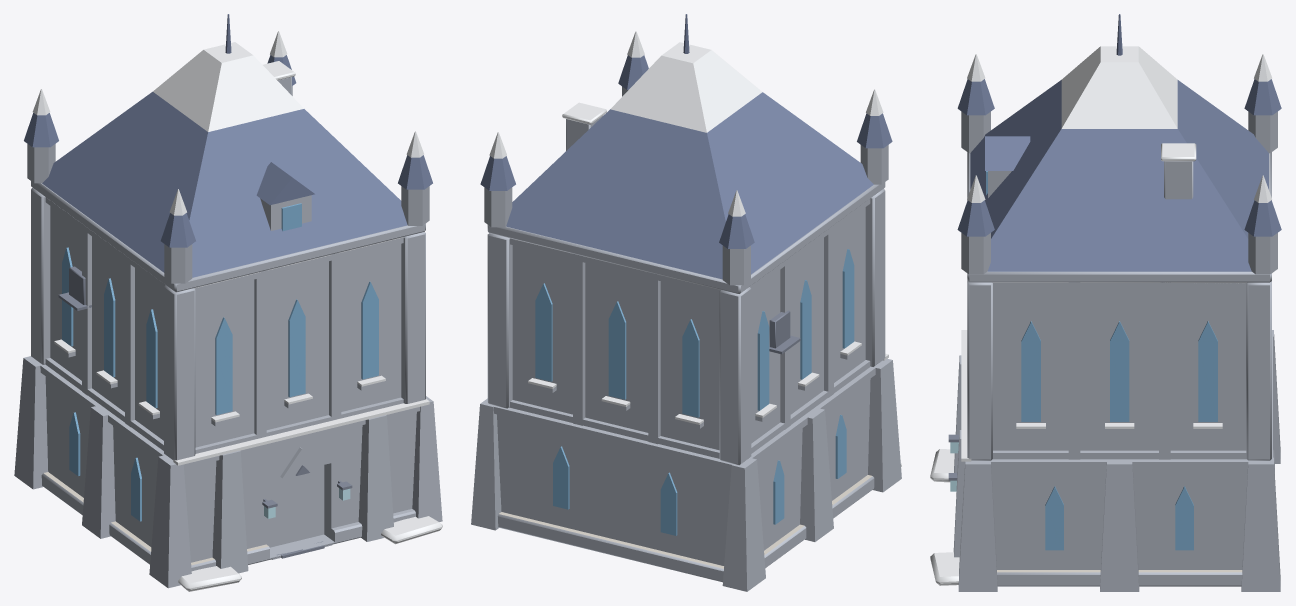
The model's file is NivalisBloque.fbx.
3 renders of one model, left to right at view 1: azimuth 30°, elevation 25°; view 2: azimuth 150°, elevation 25°; view 3: azimuth 270°, elevation 25°, orthographic. The views are drawn at different scales.
Visible parts, largest first — view 1: NivalisBloque_Medio_Cuerpo, NivalisBloque_Base_Cuerpo, NivalisBloque_Tope_Techo, NivalisBloque_Tope_Nieve, NivalisBloque_Tope_Cuerpo, NivalisBloque_Medio_Cristal, NivalisBloque_Base_Nieve, NivalisBloque_Base_Cristal, NivalisBloque_Medio_Nieve, NivalisBloque_Medio_Metal, NivalisBloque_Base_Forro; view 2: NivalisBloque_Medio_Cuerpo, NivalisBloque_Base_Cuerpo, NivalisBloque_Tope_Techo, NivalisBloque_Tope_Nieve, NivalisBloque_Medio_Cristal, NivalisBloque_Tope_Cuerpo, NivalisBloque_Base_Cristal, NivalisBloque_Base_Forro, NivalisBloque_Medio_Nieve, NivalisBloque_Medio_Metal; view 3: NivalisBloque_Medio_Cuerpo, NivalisBloque_Tope_Techo, NivalisBloque_Base_Cuerpo, NivalisBloque_Tope_Nieve, NivalisBloque_Tope_Cuerpo, NivalisBloque_Medio_Cristal, NivalisBloque_Base_Nieve, NivalisBloque_Base_Cristal, NivalisBloque_Medio_Nieve, NivalisBloque_Base_Forro.
Boxes of the visible parts, left/top/right/bottom form: NivalisBloque_Medio_Cuerpo: left=31, top=187, right=425, bottom=460; NivalisBloque_Base_Cuerpo: left=14, top=356, right=442, bottom=588; NivalisBloque_Tope_Techo: left=24, top=14, right=432, bottom=277; NivalisBloque_Tope_Nieve: left=32, top=31, right=424, bottom=215; NivalisBloque_Tope_Cuerpo: left=27, top=77, right=429, bottom=292; NivalisBloque_Medio_Cristal: left=62, top=247, right=378, bottom=414; NivalisBloque_Base_Nieve: left=173, top=399, right=442, bottom=591; NivalisBloque_Base_Cristal: left=69, top=412, right=141, bottom=521; NivalisBloque_Medio_Nieve: left=54, top=237, right=403, bottom=422; NivalisBloque_Medio_Metal: left=58, top=266, right=91, bottom=310; NivalisBloque_Base_Forro: left=43, top=472, right=268, bottom=565; NivalisBloque_Medio_Cuerpo: left=487, top=188, right=885, bottom=465; NivalisBloque_Base_Cuerpo: left=471, top=358, right=901, bottom=591; NivalisBloque_Tope_Techo: left=480, top=14, right=892, bottom=279; NivalisBloque_Tope_Nieve: left=489, top=31, right=883, bottom=216; NivalisBloque_Medio_Cristal: left=535, top=249, right=854, bottom=417; NivalisBloque_Tope_Cuerpo: left=484, top=86, right=888, bottom=293; NivalisBloque_Base_Cristal: left=553, top=415, right=846, bottom=535; NivalisBloque_Base_Forro: left=499, top=475, right=872, bottom=568; NivalisBloque_Medio_Nieve: left=510, top=238, right=861, bottom=424; NivalisBloque_Medio_Metal: left=769, top=310, right=800, bottom=354; NivalisBloque_Medio_Cuerpo: left=967, top=281, right=1271, bottom=460; NivalisBloque_Tope_Techo: left=957, top=14, right=1281, bottom=271; NivalisBloque_Base_Cuerpo: left=953, top=330, right=1280, bottom=591; NivalisBloque_Tope_Nieve: left=967, top=46, right=1272, bottom=202; NivalisBloque_Tope_Cuerpo: left=961, top=111, right=1277, bottom=282; NivalisBloque_Medio_Cristal: left=1021, top=321, right=1217, bottom=421; NivalisBloque_Base_Nieve: left=930, top=330, right=971, bottom=585; NivalisBloque_Base_Cristal: left=1045, top=486, right=1193, bottom=550; NivalisBloque_Medio_Nieve: left=992, top=282, right=1246, bottom=428; NivalisBloque_Base_Forro: left=997, top=570, right=1242, bottom=572.
Bounding box in the file's own units: 3380 × 5700 × 3578.
